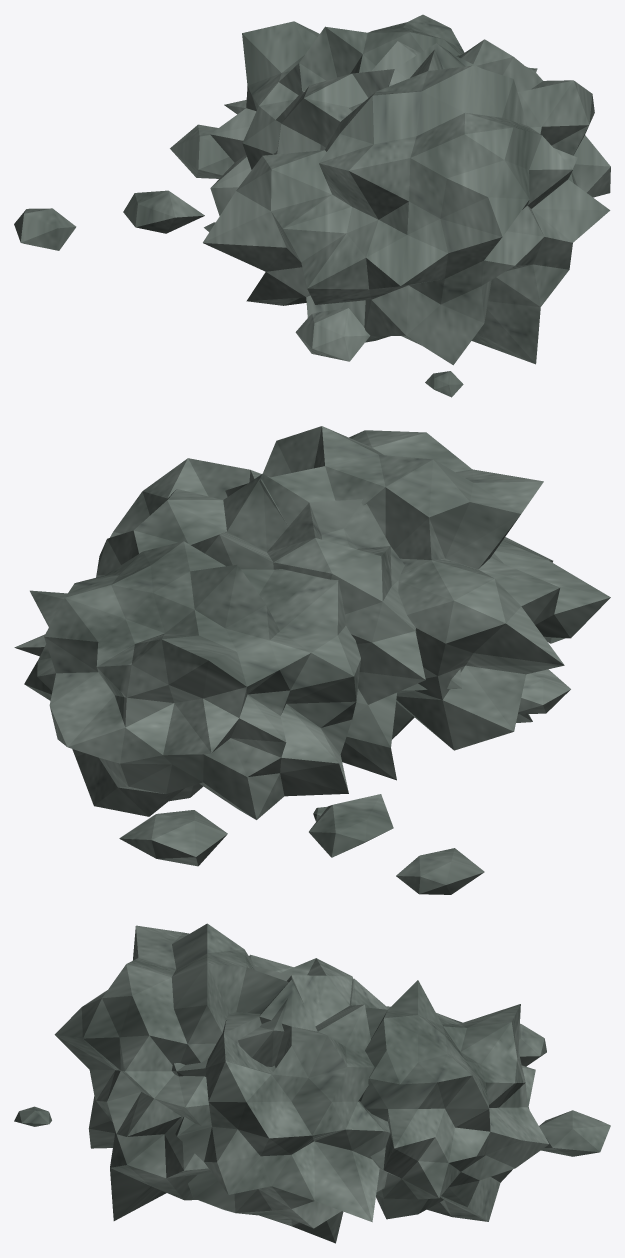
File: 0016_boulder_16.glb
3 renders of one model, top to bottom at view 1: azimuth 30°, elevation 25°; view 2: azimuth 150°, elevation 25°; view 3: azimuth 270°, elevation 25°, orthographic. The views are drawn at different scales.
Parts seen in each view (by area): view 1: stone; view 2: stone; view 3: stone.
Part boxes in pixels (x1,y1,x2,y2): stone: (14,14,610,397); stone: (14,426,610,894); stone: (14,923,610,1243).
Bounding box in the file's own units: 2.7 × 1.46 × 3.03.
2 materials, 2 textured.
